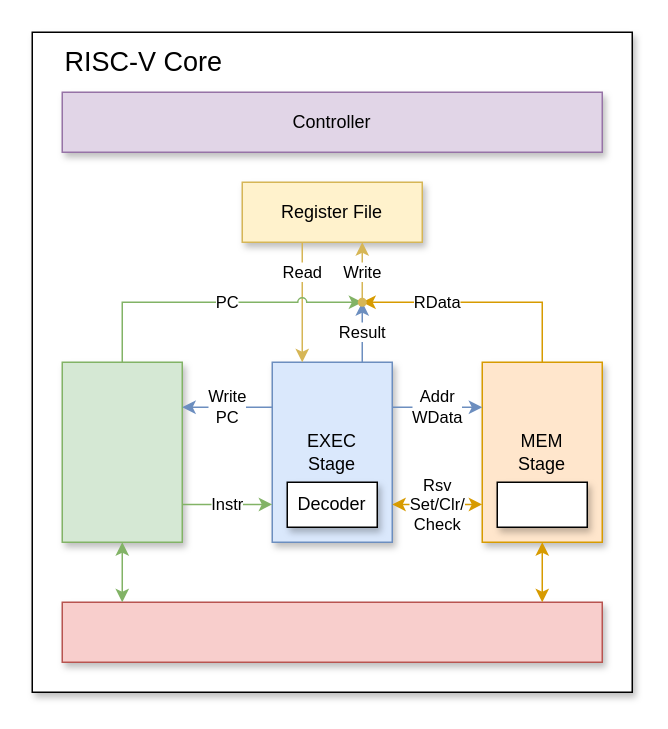
Image size: 668x729. Some labels were removed from this diagram. The centre of each missing label's shape, as x and y in pixels:
FETCH Stage: (123,454)
Memory Interface: (333,634)
Rsv Reg: (543,506)
